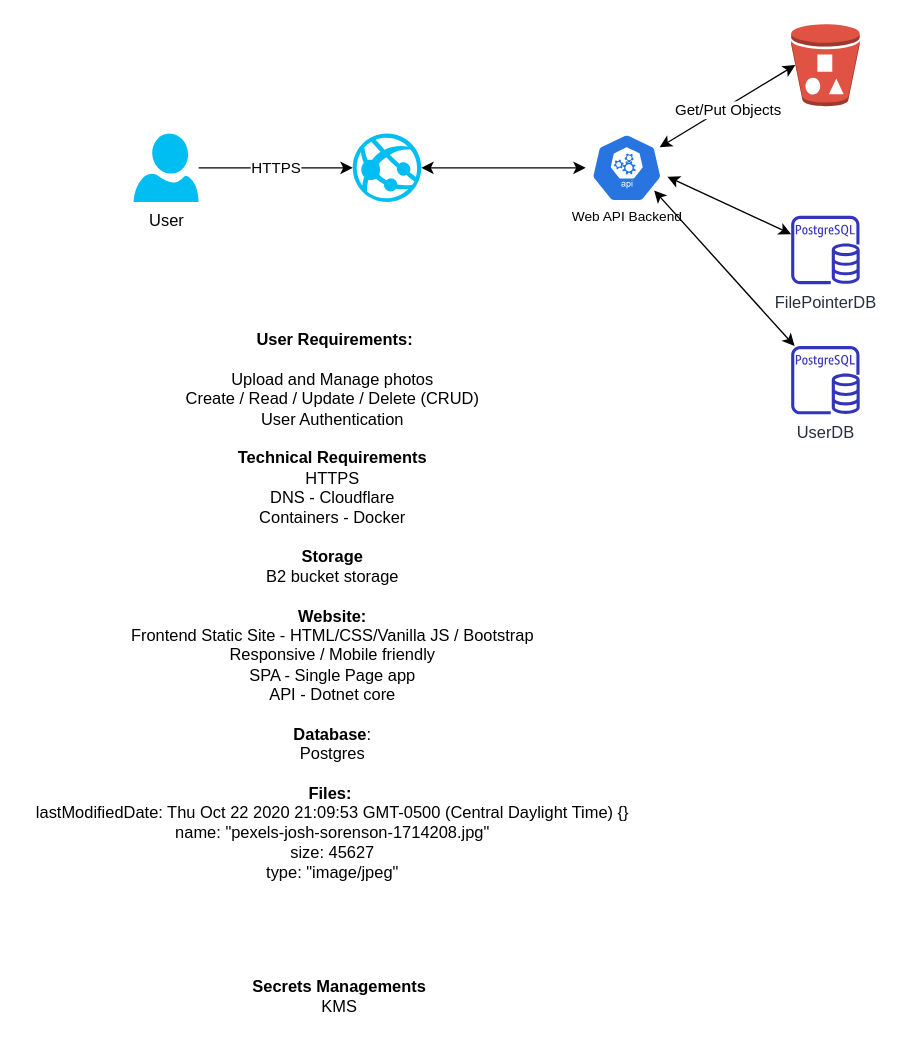
This 899x1041 diagram has some shape labels left out. Here are the shapes that lost their labels. From the top down, the box of each, then its label:
(790, 23, 860, 106): FileStorage
(352, 133, 421, 201): Photo Gallery Web App
